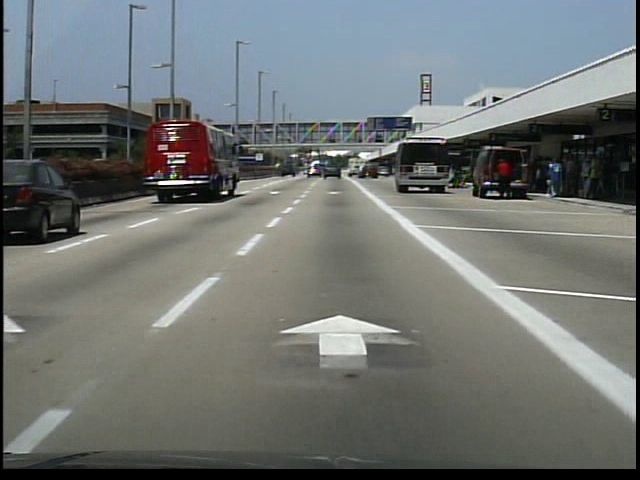person: (495, 158, 514, 206), (445, 170, 466, 195)
